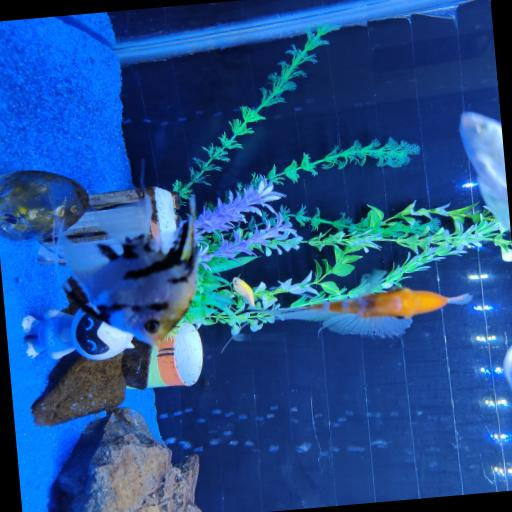Fish: (60, 196, 197, 344), (246, 288, 471, 337), (459, 112, 510, 230), (232, 278, 254, 307), (502, 345, 511, 390)
